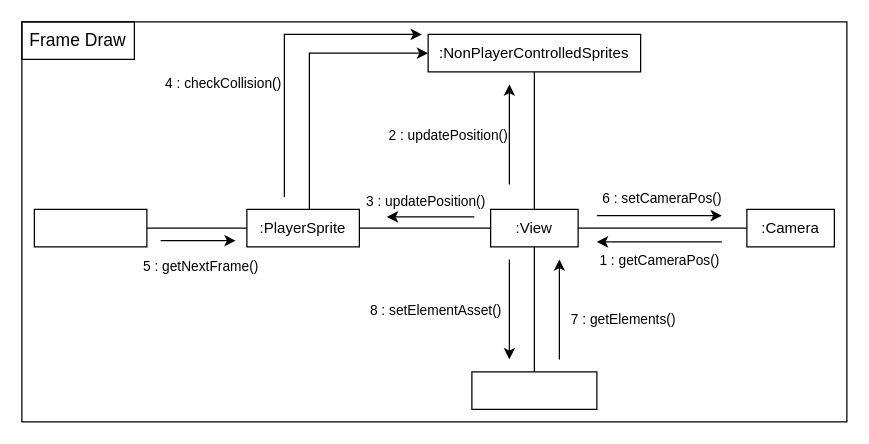
Image size: 869x444. Some labels were removed from this diagram. The shapes that lost their labels are listed below. From the top down, each one's centre as x and y in pixels, then its label:
point 90,227: :Animation
point 534,390: :UserInterface
